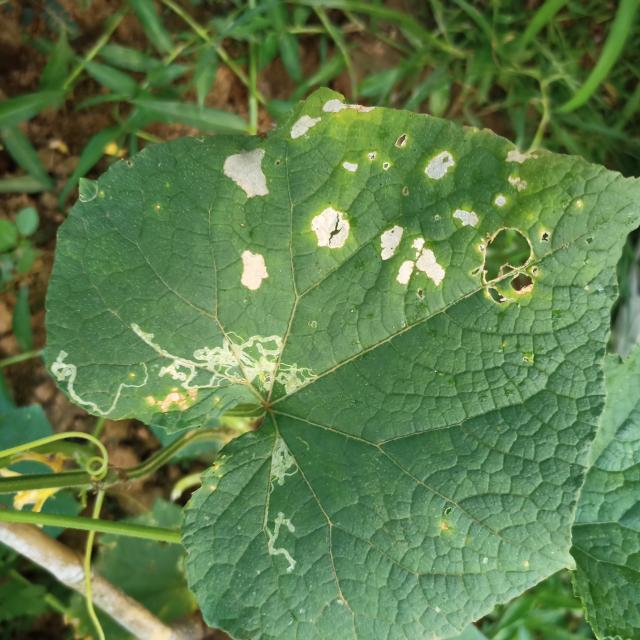disease_cucumber: (287, 93, 574, 314), (217, 141, 280, 298)
